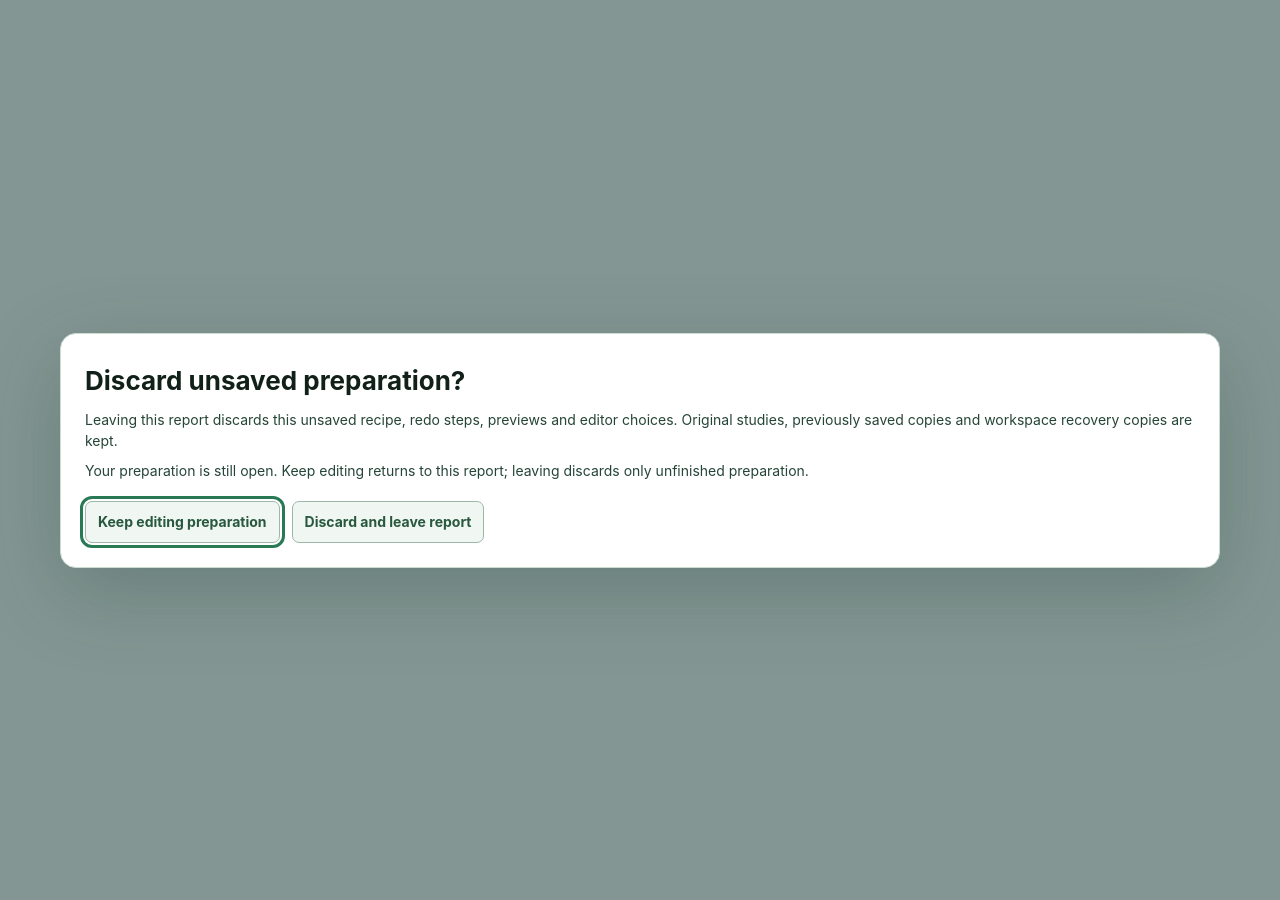
retains the decision and all work if restoring the editing URL fails
Earlier steps of the test are not shown.
What coordinates should you click on to do the following:
click the button "Keep editing preparation"
I would click on:
 (182, 522)
Its box is [85, 500, 280, 542].
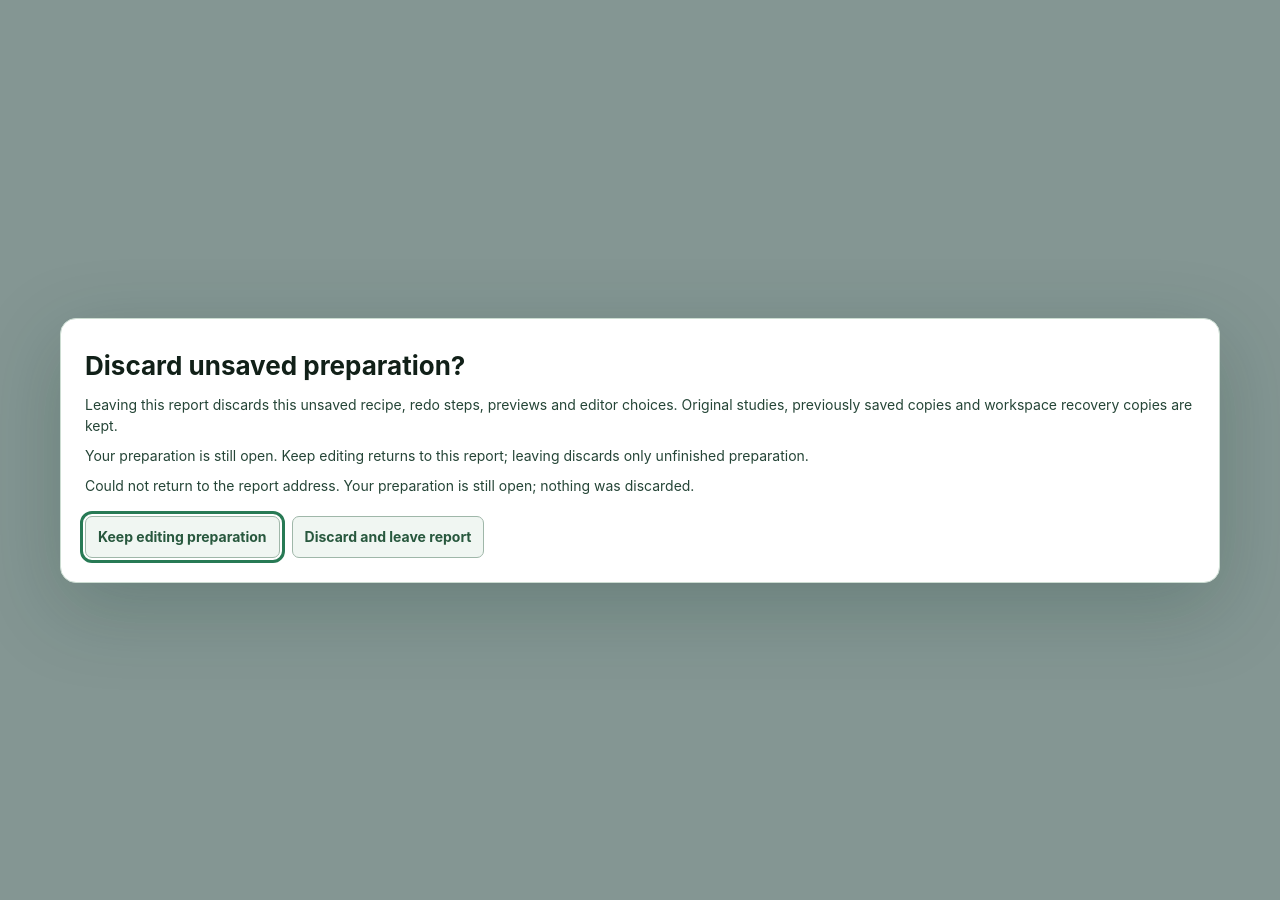
Expected: the dialog is shown, [60, 318, 1220, 582]
Now the message shows "nothing was discarded", box [85, 476, 694, 494]
What coordinates should you click on to do the following:
click the button "Keep editing preparation"
I would click on:
 (182, 536)
Its box is [85, 516, 280, 558].
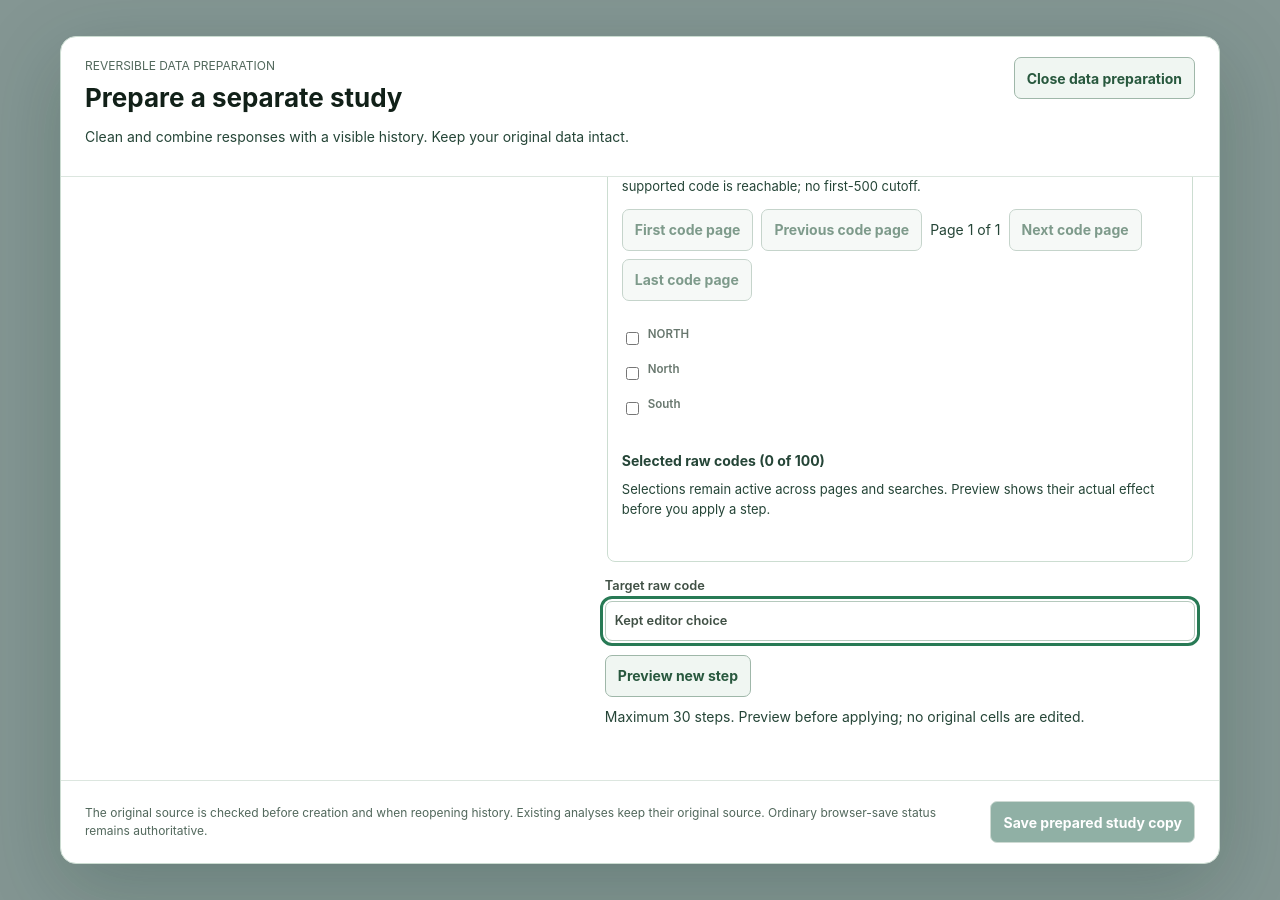
Now the field labelled "Target raw code" holds "Kept editor choice", box [605, 601, 1195, 641]
